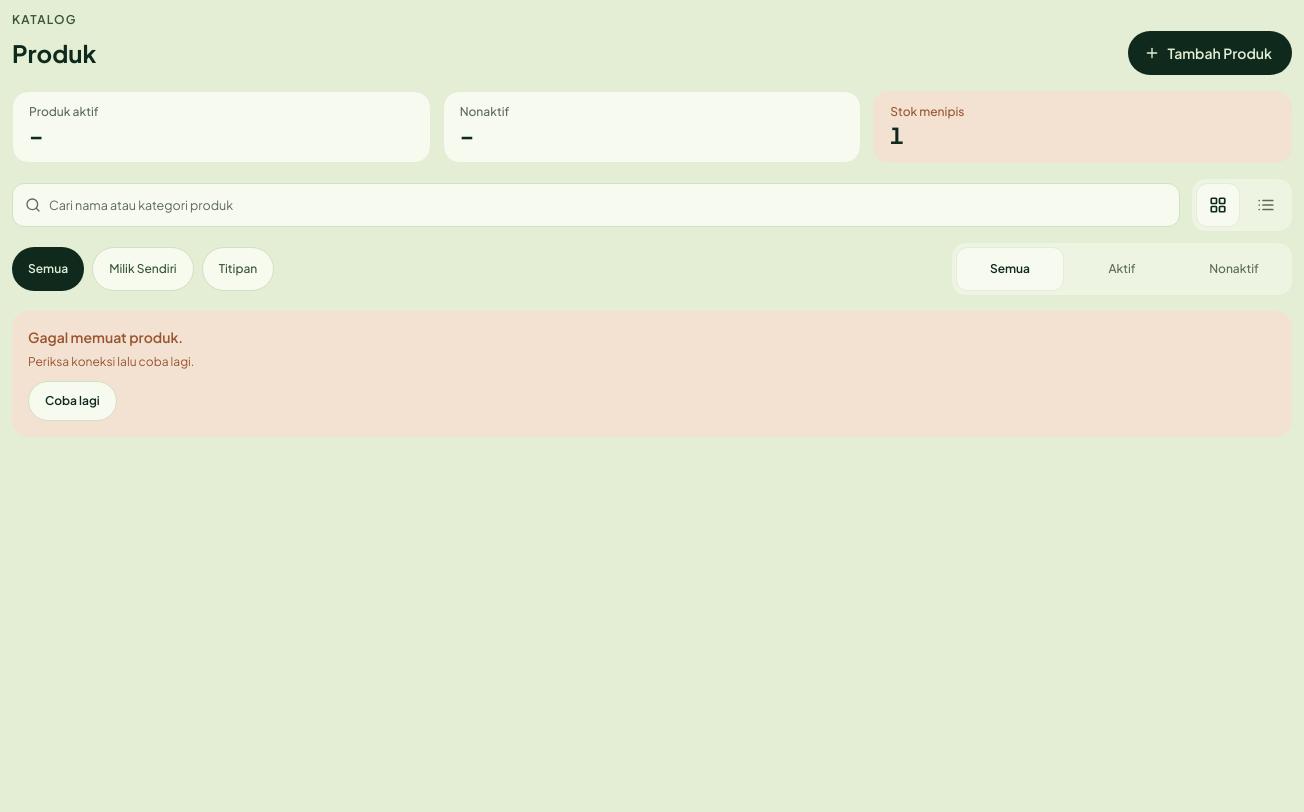
Test: Katalog › error state: pesan + Coba lagi refetch
Check: the text "Gagal memuat produk." is shown, box [28,326,183,346]
Click the button "Coba lagi". click: (72, 400)
box: [28,380,117,420]
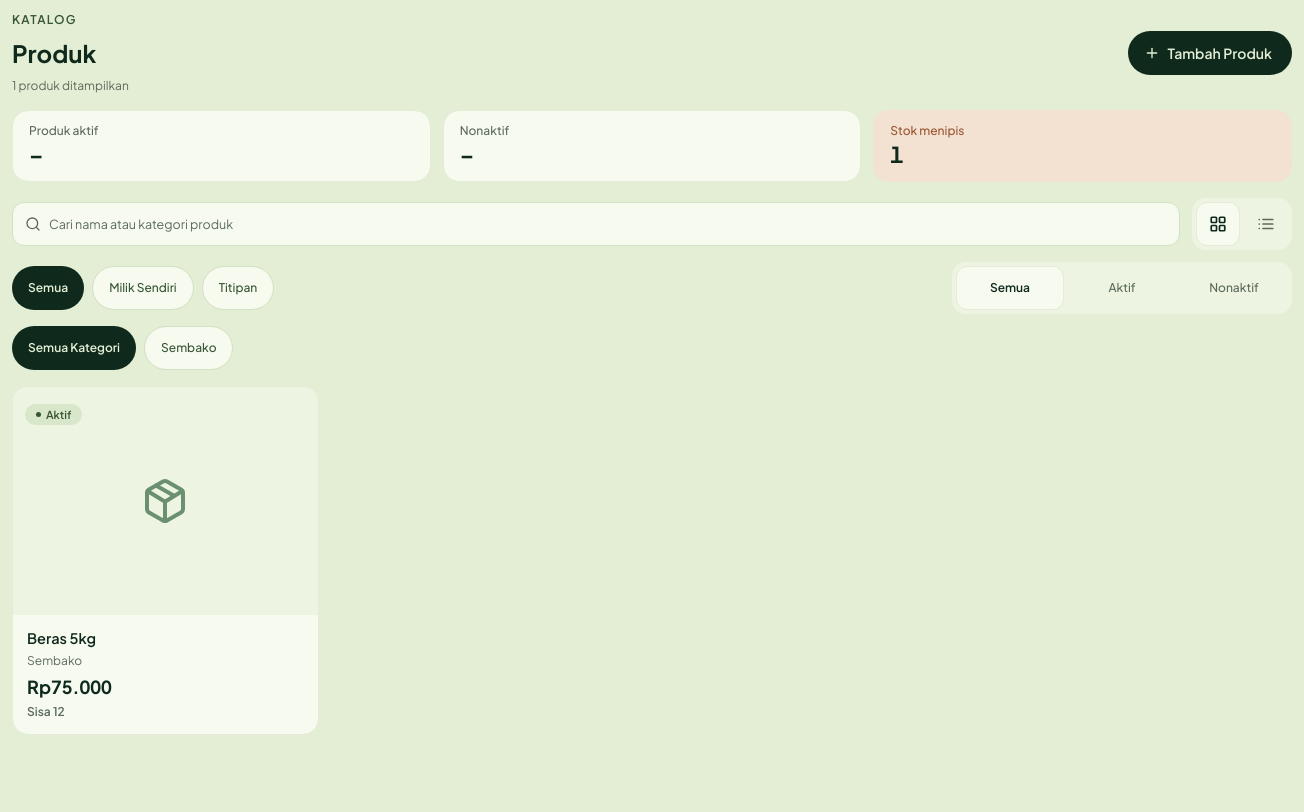
Check: the text "Beras 5kg" is shown, box [27,629,96,647]
